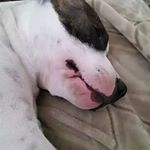puppy: (4, 1, 130, 125)
